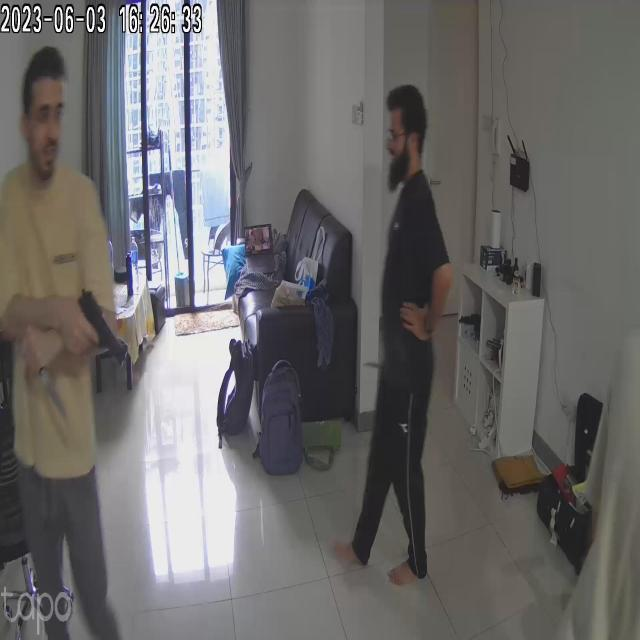Gun: (65, 276, 145, 366)
